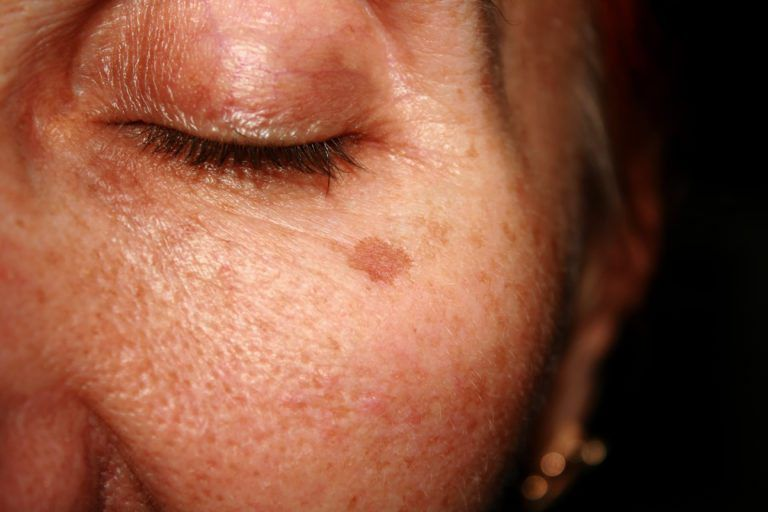DARK_SPOTS: (346, 229, 423, 295), (461, 223, 491, 256), (460, 141, 486, 163)
